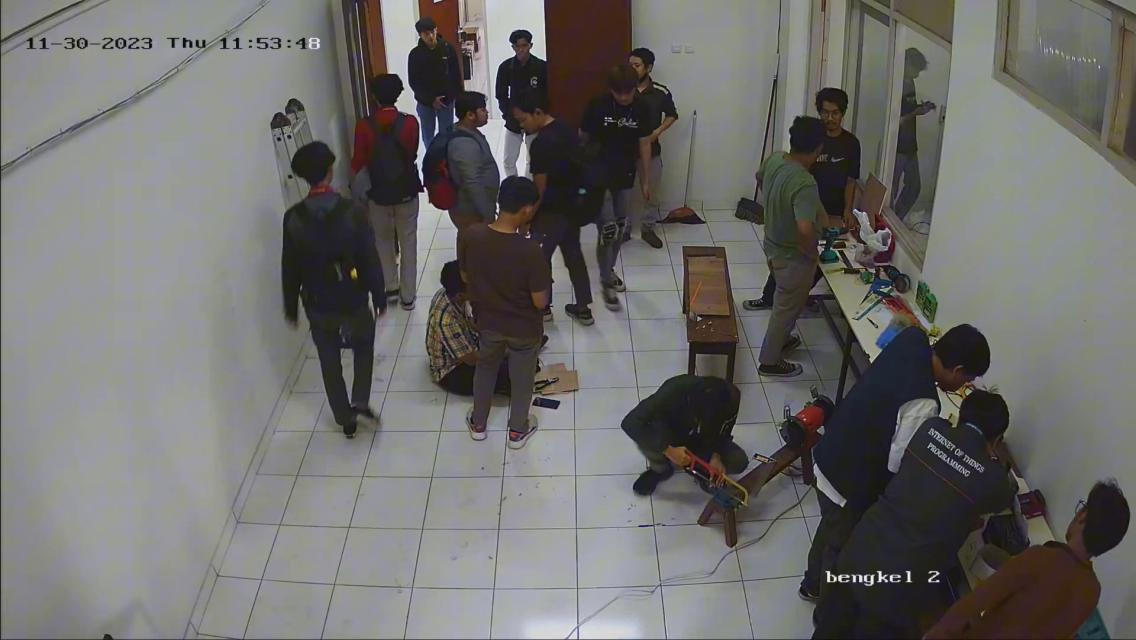Crowd: (256, 10, 700, 458)
